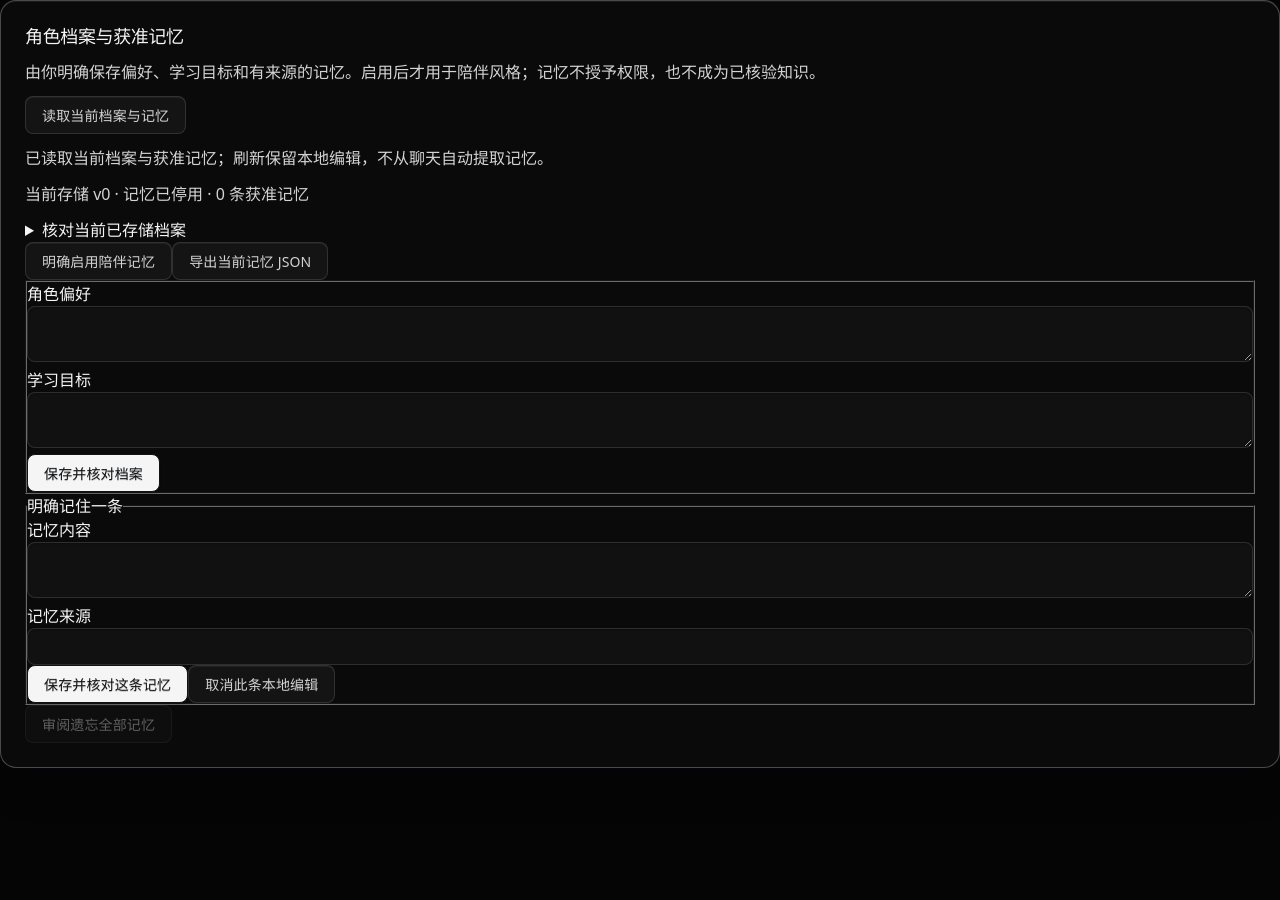
Scenario: SIMULATED enabling and disabling memory each requires an explicit action and exact readback
Expected: the text "当前存储 v0 · 记忆已停用 · 0 条获准记忆" is shown, [25,182,309,204]
Click the button "明确启用陪伴记忆".
click(99, 260)  # box [25,242,172,280]
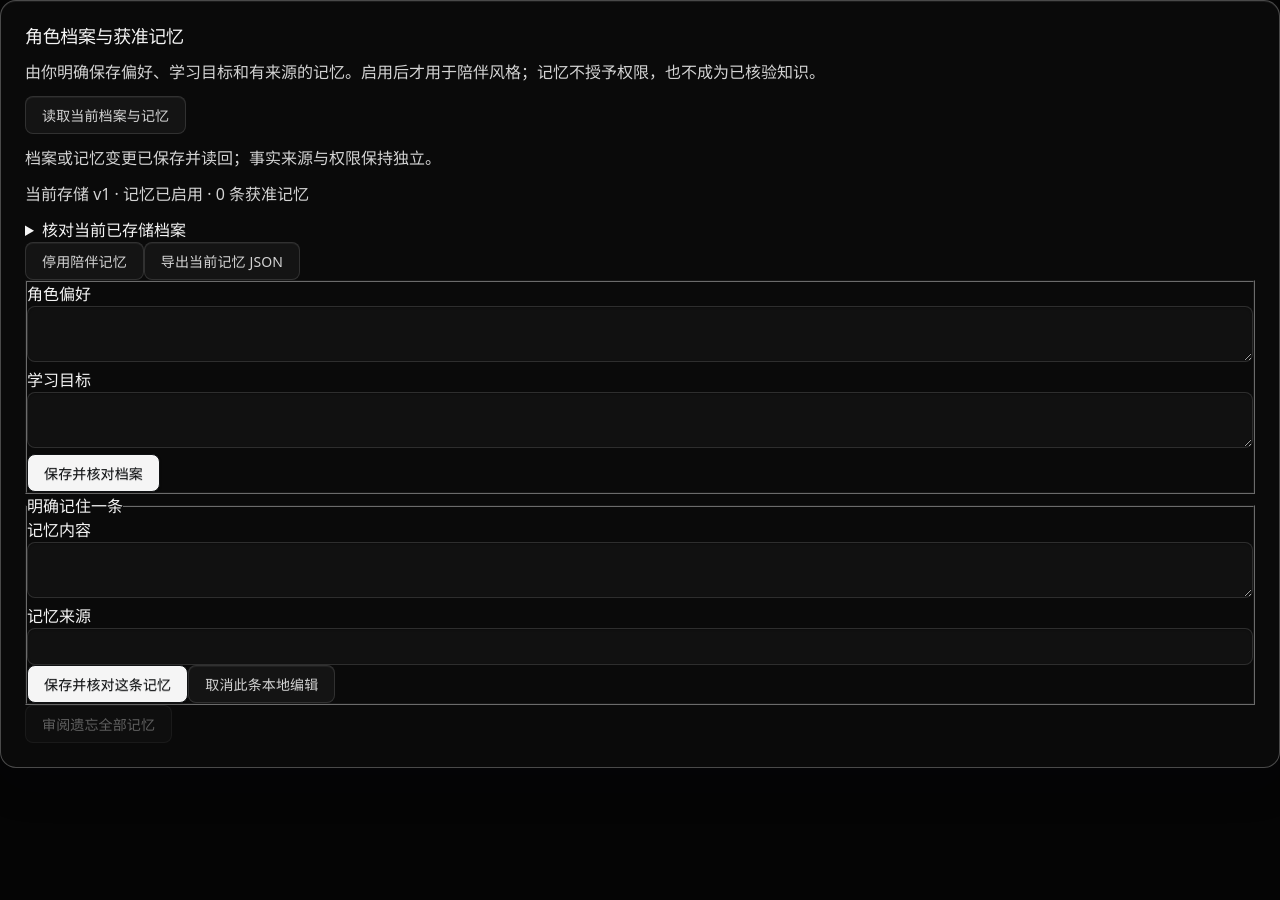
Expected: the text "当前存储 v1 · 记忆已启用 · 0 条获准记忆" is shown, [25,182,309,204]
Click the button "停用陪伴记忆".
click(84, 260)  # box [25,242,144,280]
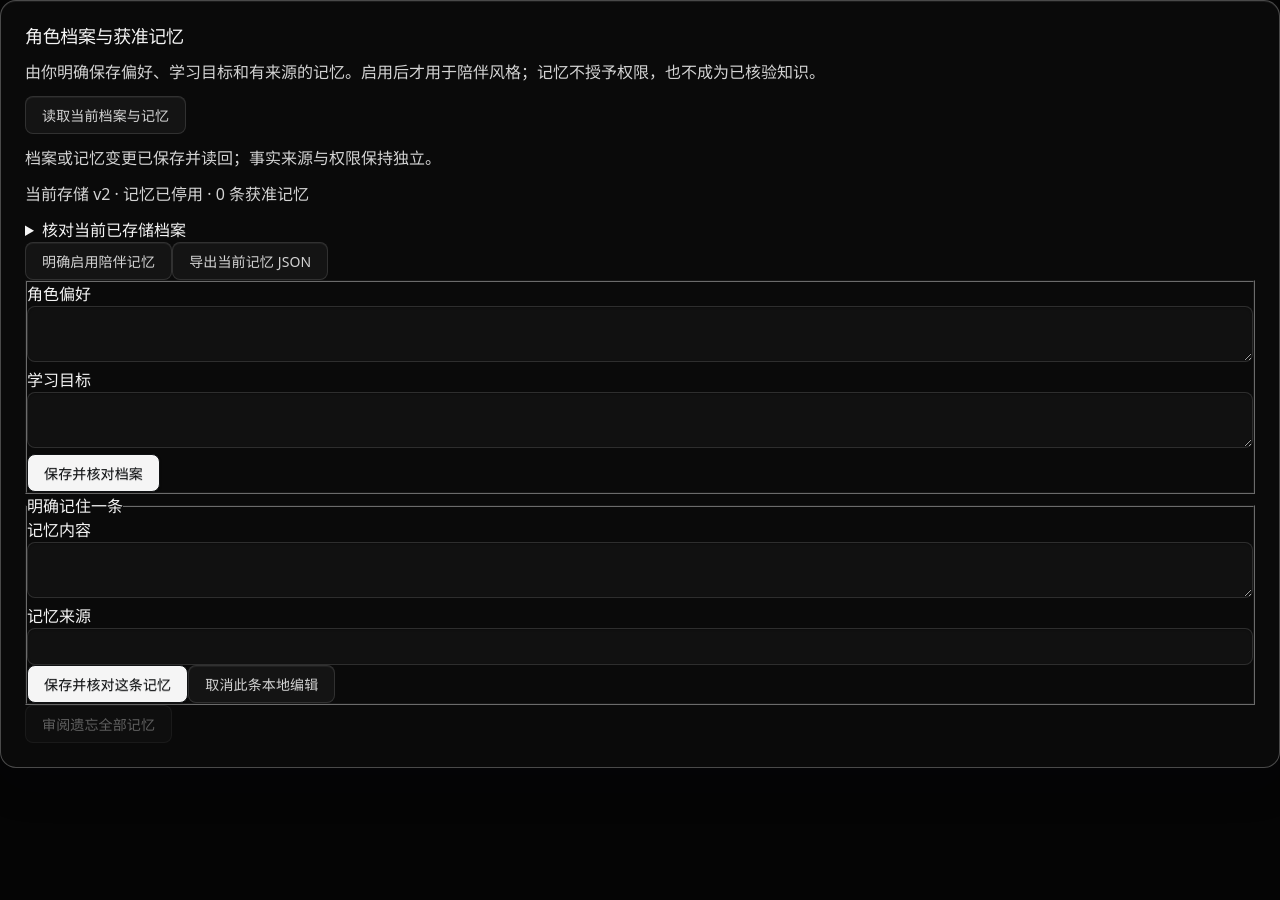
Expected: the text "当前存储 v2 · 记忆已停用 · 0 条获准记忆" is shown, [25,182,309,204]
